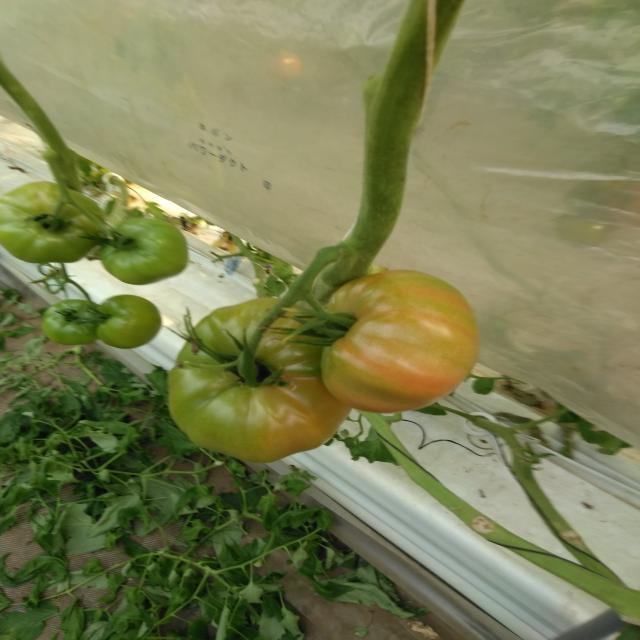yesil: (203, 237, 486, 498)
